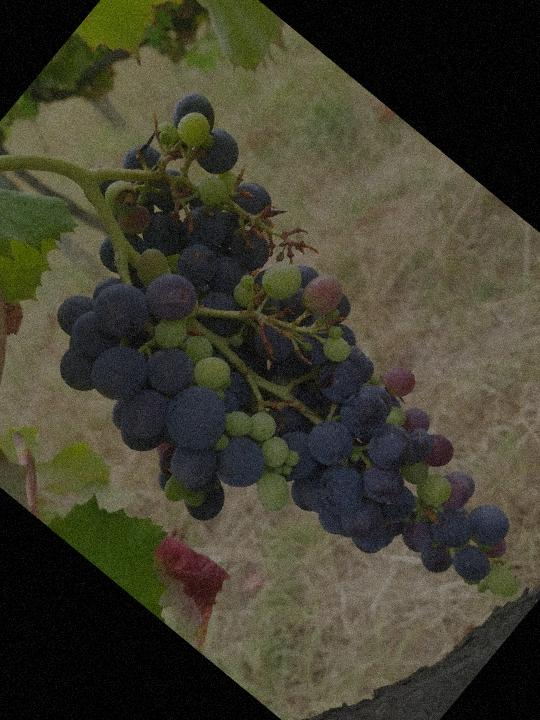grape: (0, 80, 540, 714)
